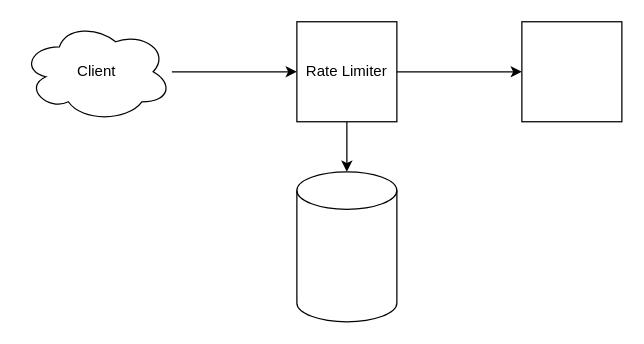
This 644x344 diagram has some shape labels left out. Here are the shapes that lost their labels. From the top down, the centre of each, then its label:
the point at 571,71: API Server
the point at 346,246: Redis
